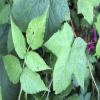Raspberry leaf: (44, 20, 87, 96), (26, 4, 49, 50), (9, 14, 27, 60), (21, 68, 51, 95), (24, 50, 52, 73)
